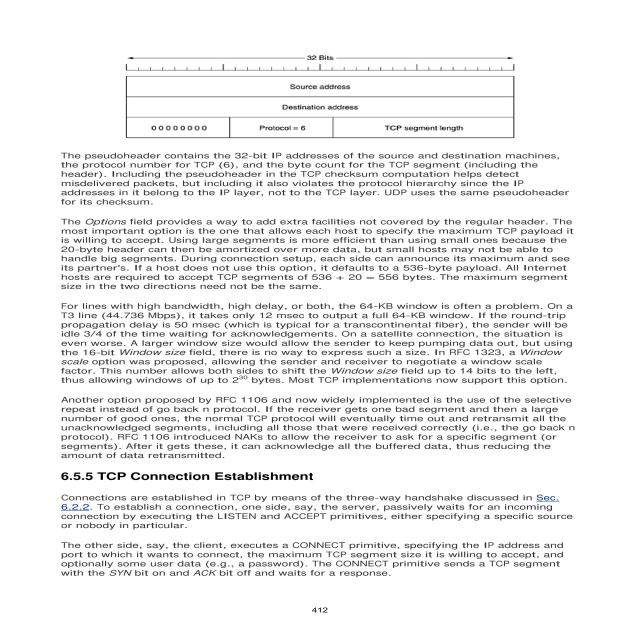diagram: (52, 38, 592, 146)
